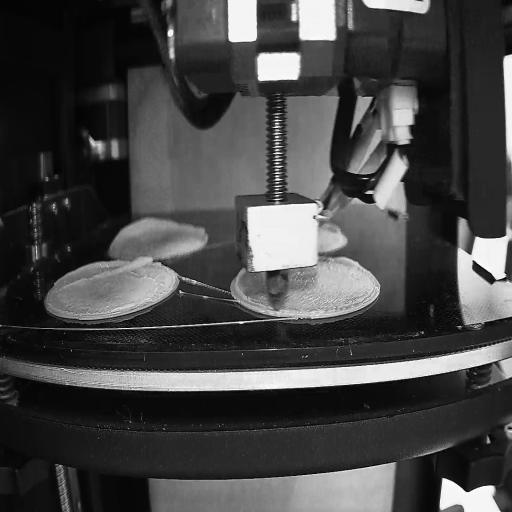over_extrusion: (108, 213, 209, 253), (58, 256, 152, 293), (332, 255, 360, 269), (320, 223, 345, 233)
